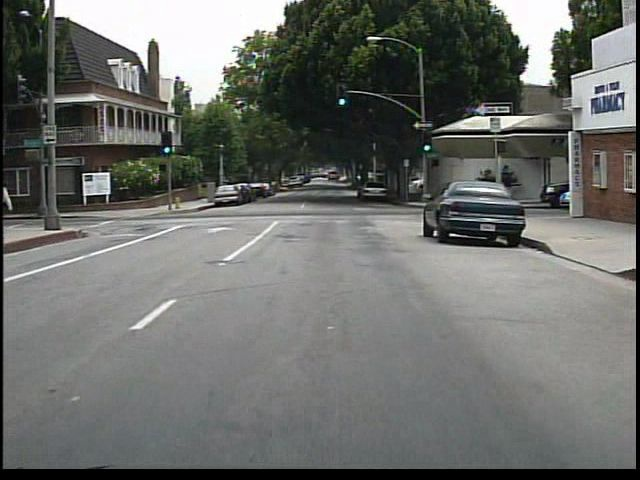person: (499, 170, 522, 208)
